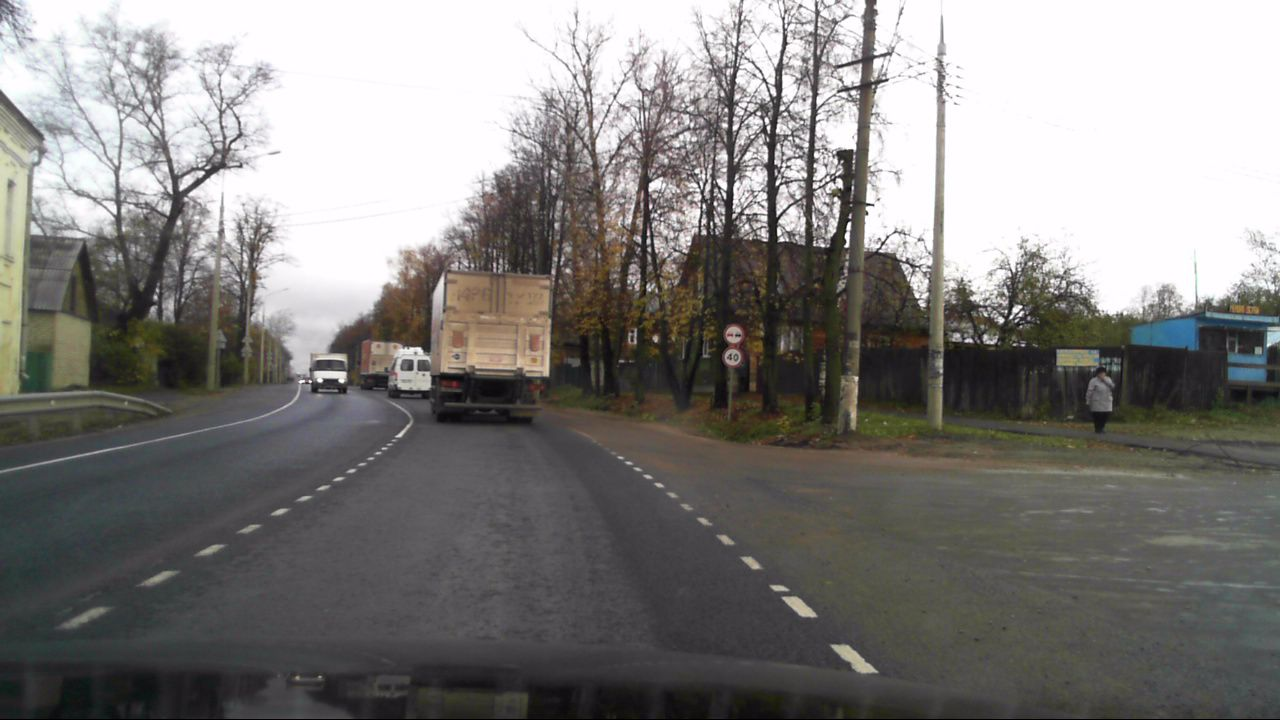speed_warning_40: (722, 348, 741, 366)
